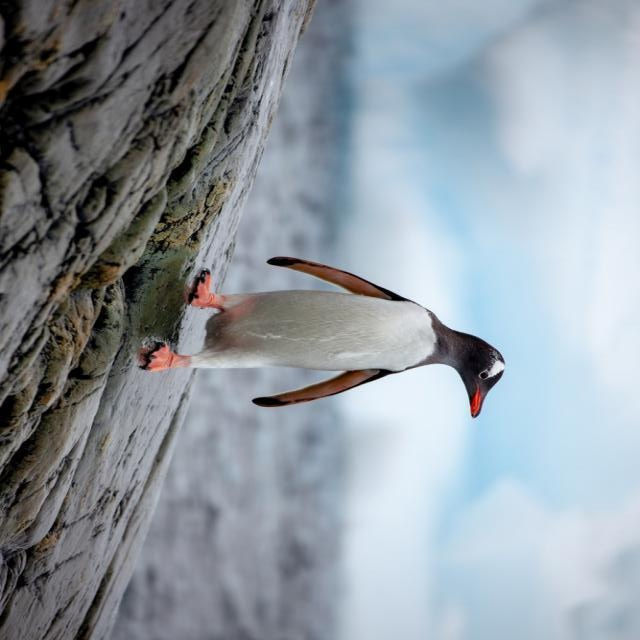penguin: (138, 257, 507, 419)
